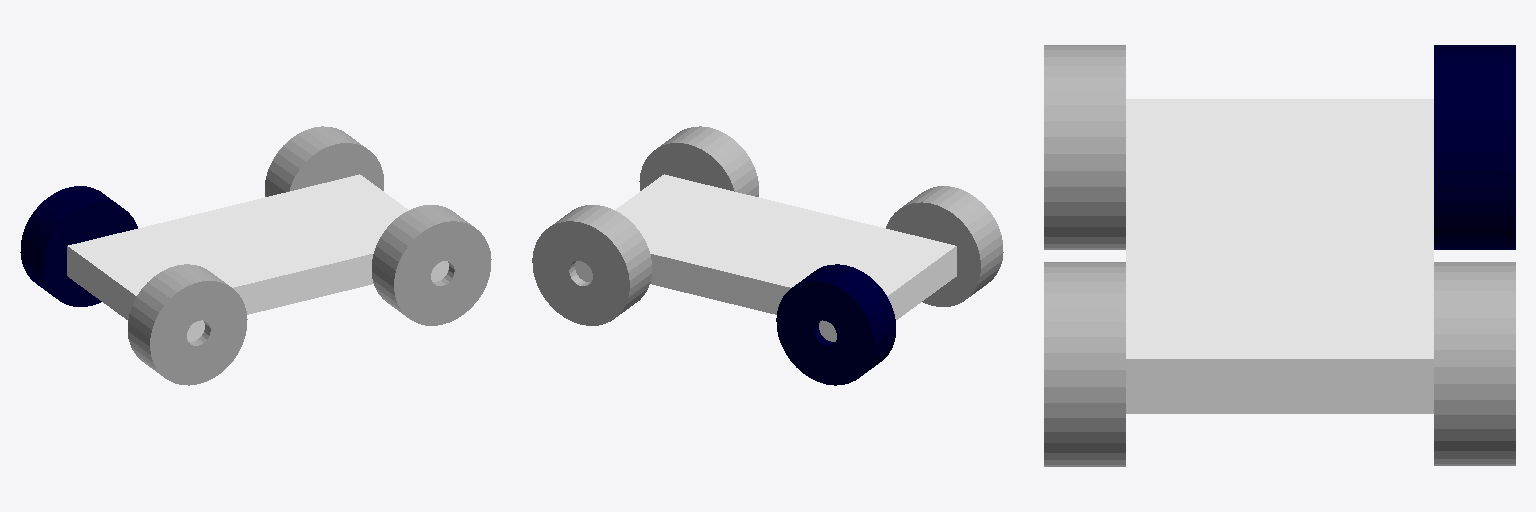
robot.urdf — four_bot:
<?xml version="1.0" encoding="utf-8"?>
<!-- This URDF was automatically created by SolidWorks to URDF Exporter! Originally created by [author] ([email redacted]) 
     Commit Version: 1.6.0-4-g7f85cfe  Build Version: 1.6.7995.38578
     For more information, please see http://wiki.ros.org/sw_urdf_exporter -->
<robot
  name="four_bot">
  <link
    name="base_link">
    <inertial>
      <origin
        xyz="-1.30261870219105E-17 3.96641173546126E-17 0.0300251510441287"
        rpy="0 0 0" />
      <mass
        value="11.2712388980385" />
      <inertia
        ixx="0.0997233064490436"
        ixy="1.05879118406788E-17"
        ixz="1.88717947193408E-18"
        iyy="0.356839856688409"
        iyz="4.50397881834787E-18"
        izz="0.449935574171081" />
    </inertial>
    <visual>
      <origin
        xyz="0 0 0"
        rpy="0 0 0" />
      <geometry>
        <mesh
          filename="package://four_bot/meshes/base_link.STL" />
      </geometry>
      <material
        name="">
        <color
          rgba="1 1 1 1" />
      </material>
    </visual>
    <collision>
      <origin
        xyz="0 0 0"
        rpy="0 0 0" />
      <geometry>
        <mesh
          filename="package://four_bot/meshes/base_link.STL" />
      </geometry>
    </collision>
  </link>
  <link
    name="front_lw">
    <inertial>
      <origin
        xyz="0.25 -0.19 0.0306015705156974"
        rpy="0 0 0" />
      <mass
        value="2.36241484364645" />
      <inertia
        ixx="0.00752050156986893"
        ixy="-4.58158604798153E-19"
        ixz="-1.13431828853138E-18"
        iyy="0.0125210939731817"
        iyz="2.23634742073282E-19"
        izz="0.00752050156986894" />
    </inertial>
    <visual>
      <origin
        xyz="0 0 0"
        rpy="0 0 0" />
      <geometry>
        <mesh
          filename="package://four_bot/meshes/front_lw.STL" />
      </geometry>
      <material
        name="">
        <color
          rgba="0 0 0.25 1" />
      </material>
    </visual>
    <collision>
      <origin
        xyz="0 0 0"
        rpy="0 0 0" />
      <geometry>
        <mesh
          filename="package://four_bot/meshes/front_lw.STL" />
      </geometry>
    </collision>
  </link>
  <joint
    name="front_lj"
    type="revolute">
    <origin
      xyz="0 0 0"
      rpy="0 0 3.1416" />
    <parent
      link="base_link" />
    <child
      link="front_lw" />
    <axis
      xyz="0 -1 0" />
    <limit
      lower="0"
      upper="0"
      effort="0"
      velocity="0" />
  </joint>
  <link
    name="front_rw">
    <inertial>
      <origin
        xyz="0.25 0.19 0.0306015705156973"
        rpy="0 0 0" />
      <mass
        value="2.36241484364645" />
      <inertia
        ixx="0.00752050156986894"
        ixy="3.66741547359948E-37"
        ixz="1.17511704215747E-18"
        iyy="0.0125210939731817"
        iyz="-4.51750905202298E-21"
        izz="0.00752050156986894" />
    </inertial>
    <visual>
      <origin
        xyz="0 0 0"
        rpy="0 0 0" />
      <geometry>
        <mesh
          filename="package://four_bot/meshes/front_rw.STL" />
      </geometry>
      <material
        name="">
        <color
          rgba="0.752941176470588 0.752941176470588 0.752941176470588 1" />
      </material>
    </visual>
    <collision>
      <origin
        xyz="0 0 0"
        rpy="0 0 0" />
      <geometry>
        <mesh
          filename="package://four_bot/meshes/front_rw.STL" />
      </geometry>
    </collision>
  </link>
  <joint
    name="front_rj"
    type="revolute">
    <origin
      xyz="0 0 0"
      rpy="0 0 3.1416" />
    <parent
      link="base_link" />
    <child
      link="front_rw" />
    <axis
      xyz="0 1 0" />
    <limit
      lower="0"
      upper="0"
      effort="0"
      velocity="0" />
  </joint>
  <link
    name="back_rw">
    <inertial>
      <origin
        xyz="-0.25 0.19 0.0306015705156971"
        rpy="0 0 0" />
      <mass
        value="2.36241484364645" />
      <inertia
        ixx="0.00752050156986894"
        ixy="1.80700362080917E-20"
        ixz="-1.18095804018957E-18"
        iyy="0.0125210939731817"
        iyz="-1.35525271560688E-20"
        izz="0.00752050156986894" />
    </inertial>
    <visual>
      <origin
        xyz="0 0 0"
        rpy="0 0 0" />
      <geometry>
        <mesh
          filename="package://four_bot/meshes/back_rw.STL" />
      </geometry>
      <material
        name="">
        <color
          rgba="0.752941176470588 0.752941176470588 0.752941176470588 1" />
      </material>
    </visual>
    <collision>
      <origin
        xyz="0 0 0"
        rpy="0 0 0" />
      <geometry>
        <mesh
          filename="package://four_bot/meshes/back_rw.STL" />
      </geometry>
    </collision>
  </link>
  <joint
    name="back_rj"
    type="revolute">
    <origin
      xyz="0 0 0"
      rpy="0 0 3.1416" />
    <parent
      link="base_link" />
    <child
      link="back_rw" />
    <axis
      xyz="0 1 0" />
    <limit
      lower="0"
      upper="0"
      effort="30"
      velocity="30" />
  </joint>
  <link
    name="back_lw">
    <inertial>
      <origin
        xyz="-0.25 -0.19 0.0306015705156971"
        rpy="0 0 0" />
      <mass
        value="2.36241484364645" />
      <inertia
        ixx="0.00752050156986894"
        ixy="-3.08842102297522E-19"
        ixz="9.86369867077633E-19"
        iyy="0.0125210939731817"
        iyz="-2.22950587572899E-19"
        izz="0.00752050156986894" />
    </inertial>
    <visual>
      <origin
        xyz="0 0 0"
        rpy="0 0 0" />
      <geometry>
        <mesh
          filename="package://four_bot/meshes/back_lw.STL" />
      </geometry>
      <material
        name="">
        <color
          rgba="0.752941176470588 0.752941176470588 0.752941176470588 1" />
      </material>
    </visual>
    <collision>
      <origin
        xyz="0 0 0"
        rpy="0 0 0" />
      <geometry>
        <mesh
          filename="package://four_bot/meshes/back_lw.STL" />
      </geometry>
    </collision>
  </link>
  <joint
    name="back_jl"
    type="revolute">
    <origin
      xyz="0 0 0"
      rpy="0 0 3.1416" />
    <parent
      link="base_link" />
    <child
      link="back_lw" />
    <axis
      xyz="0 -1 0" />
    <limit
      lower="0"
      upper="0"
      effort="0"
      velocity="0" />
  </joint>
</robot>

--- What the picture shows (computed from the rendered views, not written in the file) ---
3 views of the same robot in one strip: view 1: azimuth 30°, elevation 25°; view 2: azimuth 150°, elevation 25°; view 3: azimuth 270°, elevation 25° (orthographic).
Robot: four_bot — 5 links, 4 joints (4 revolute); root link base_link; default pose: every joint at zero.
Links seen in each view (by area): view 1: base_link, back_rw, front_rw, front_lw, back_lw; view 2: base_link, back_lw, front_lw, front_rw, back_rw; view 3: base_link, front_lw, front_rw, back_rw, back_lw.
Link boxes in pixels (bbox=[...]): base_link: bbox=[67, 174, 448, 341]; back_rw: bbox=[372, 205, 491, 325]; front_rw: bbox=[128, 264, 247, 385]; front_lw: bbox=[20, 186, 137, 306]; back_lw: bbox=[265, 126, 383, 196]; base_link: bbox=[575, 174, 956, 341]; back_lw: bbox=[532, 205, 651, 325]; front_lw: bbox=[776, 264, 895, 385]; front_rw: bbox=[886, 186, 1003, 306]; back_rw: bbox=[639, 126, 758, 196]; base_link: bbox=[1126, 99, 1433, 413]; front_lw: bbox=[1434, 45, 1515, 249]; front_rw: bbox=[1044, 45, 1125, 249]; back_rw: bbox=[1044, 262, 1125, 466]; back_lw: bbox=[1434, 262, 1515, 465].
Size in the robot's own frame: 0.6998 by 0.46 by 0.2 metres.
Meshes: 5 distinct files referenced, 5 mesh visuals loaded (5 binary STL).
